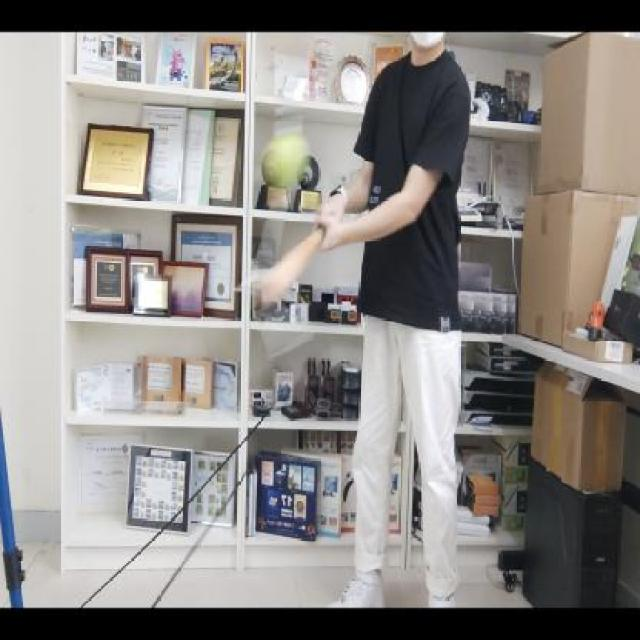baseball: (263, 129, 311, 191)
